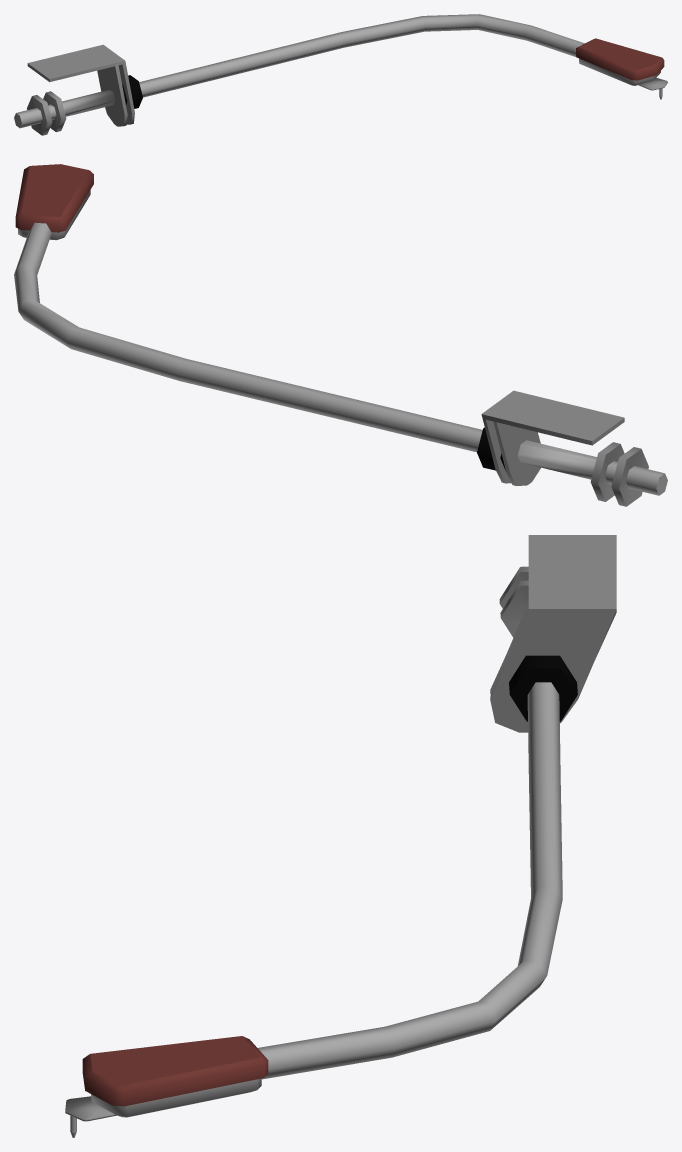
File: Spine.fbx
The picture shows the model from 3 angles, top to bottom: view 1: azimuth 30°, elevation 25°; view 2: azimuth 150°, elevation 25°; view 3: azimuth 270°, elevation 25°; orthographic projection. The views are drawn at different scales.
Visible parts, largest first — view 1: Cube.003; view 2: Cube.003; view 3: Cube.003.
Boxes of the visible parts, x1,y1,x2,y2 form: Cube.003: [14, 14, 667, 135]; Cube.003: [14, 164, 667, 506]; Cube.003: [65, 535, 616, 1137].
Size of the model in its own units: 157 by 17.14 by 69.35.
